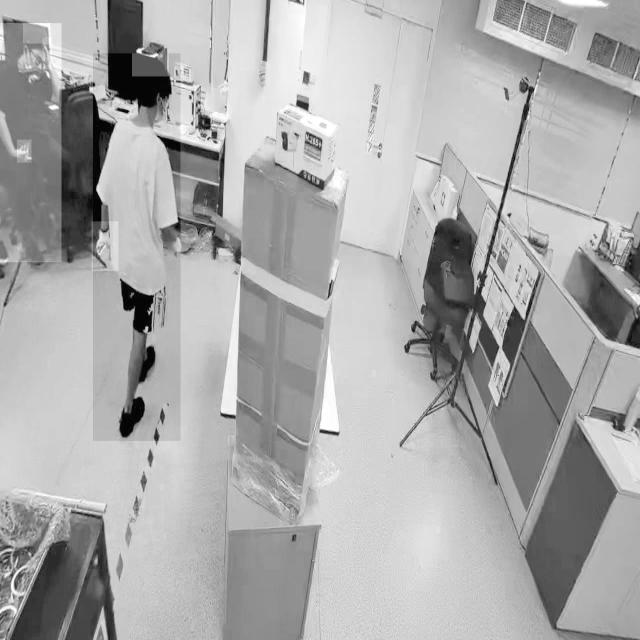hand_glove: (92, 221, 118, 271), (161, 221, 185, 266)
hand_noglove: (17, 140, 32, 164), (42, 37, 52, 71)
head_nohelmet: (132, 54, 170, 78), (23, 23, 51, 45)
person: (93, 53, 181, 442), (0, 23, 62, 263)
shoes: (116, 395, 146, 440), (130, 339, 158, 385)
